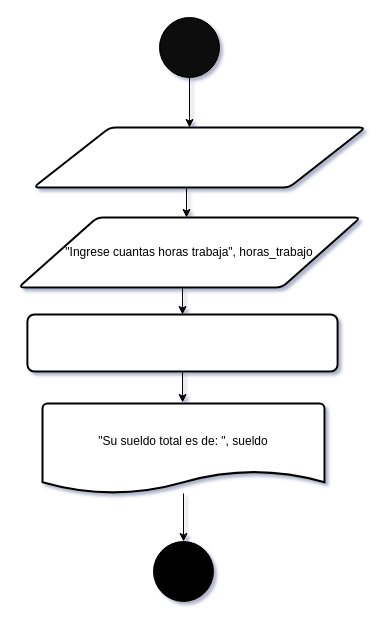
This 389x625 diagram has some shape labels left out. Each missing label, with the centre of its shape:
"Ingrese cuanto gana por hora", valor_hora: the point at 199,157
sueldo = (valor_hora * horas_trabajo) * 24: the point at 182,342
